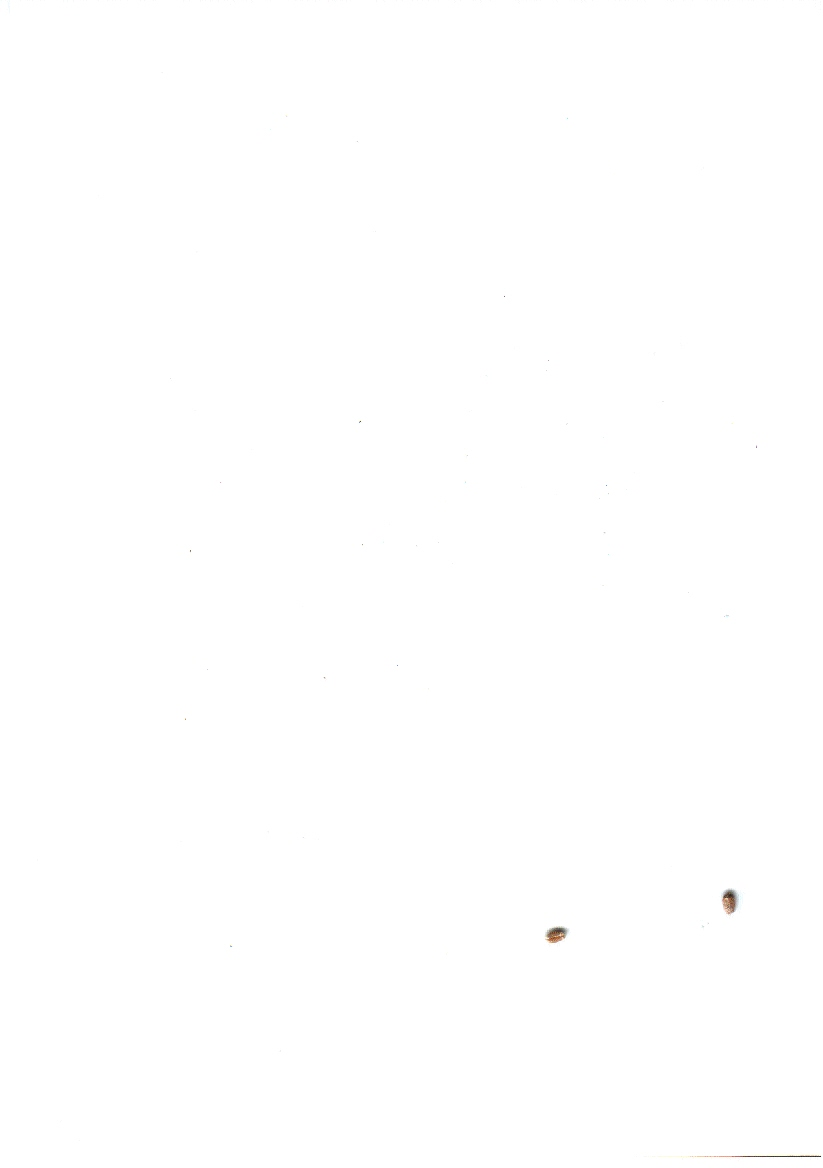grains: (533, 915, 575, 951), (708, 886, 747, 921)
